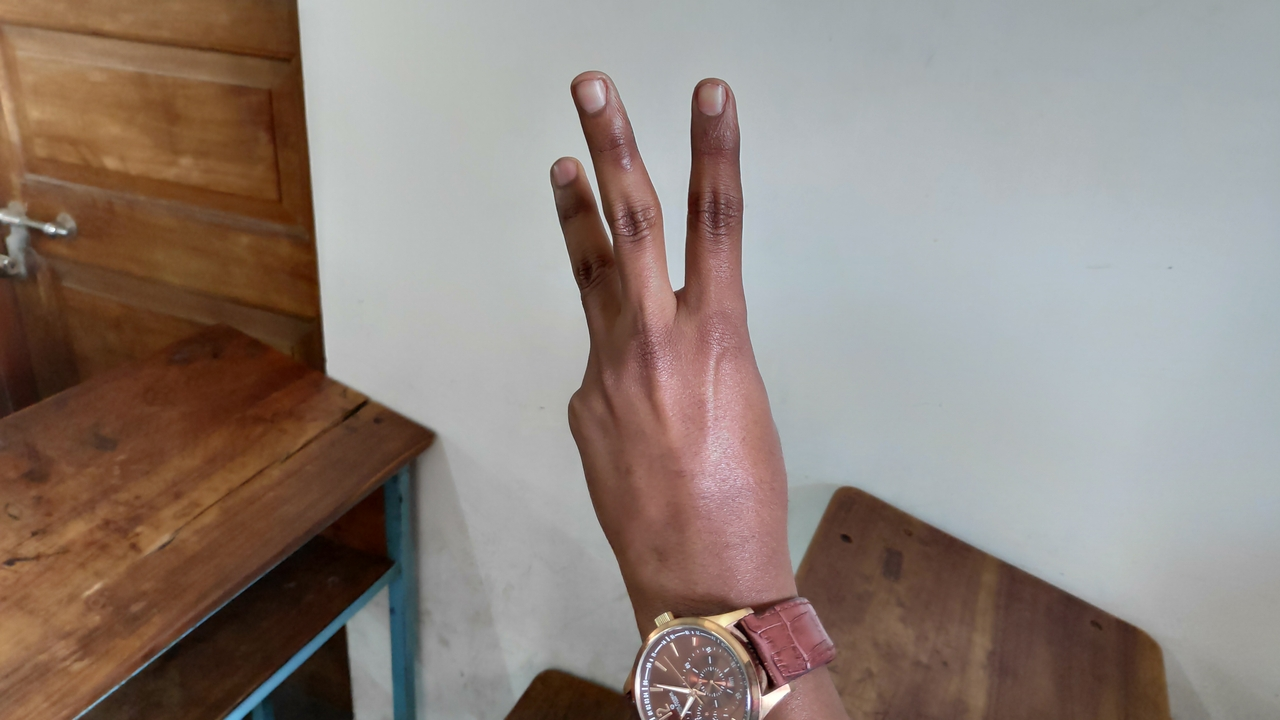fingertip: (688, 70, 744, 126), (568, 64, 626, 118), (542, 152, 588, 196)
